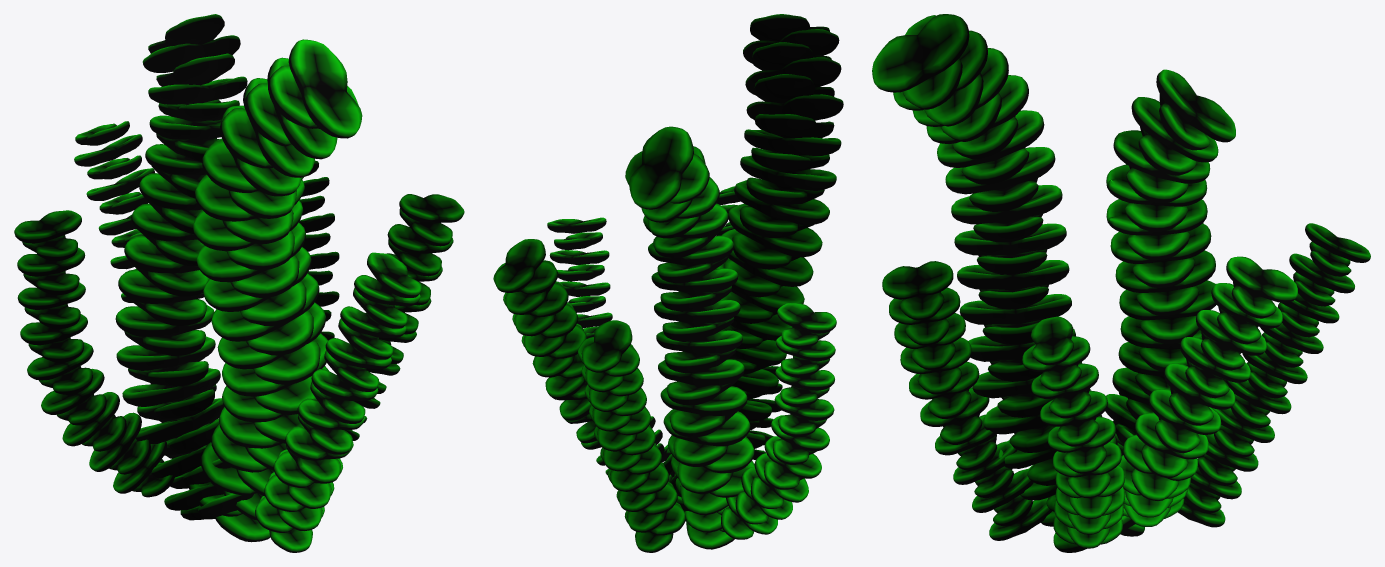
3 renders of one model, left to right at view 1: azimuth 30°, elevation 25°; view 2: azimuth 150°, elevation 25°; view 3: azimuth 270°, elevation 25°, orthographic. The views are drawn at different scales.
Parts seen in each view (by area): view 1: 贝塞尔曲线.024; view 2: 贝塞尔曲线.024; view 3: 贝塞尔曲线.024.
Part boxes in pixels (bbox=[...]): 贝塞尔曲线.024: bbox=[14, 14, 464, 552]; 贝塞尔曲线.024: bbox=[493, 14, 843, 552]; 贝塞尔曲线.024: bbox=[872, 14, 1370, 552].
Bounding box in the file's own units: 0.1249 × 0.1686 × 0.1451.
